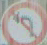Don't turn left: (1, 2, 42, 44)
